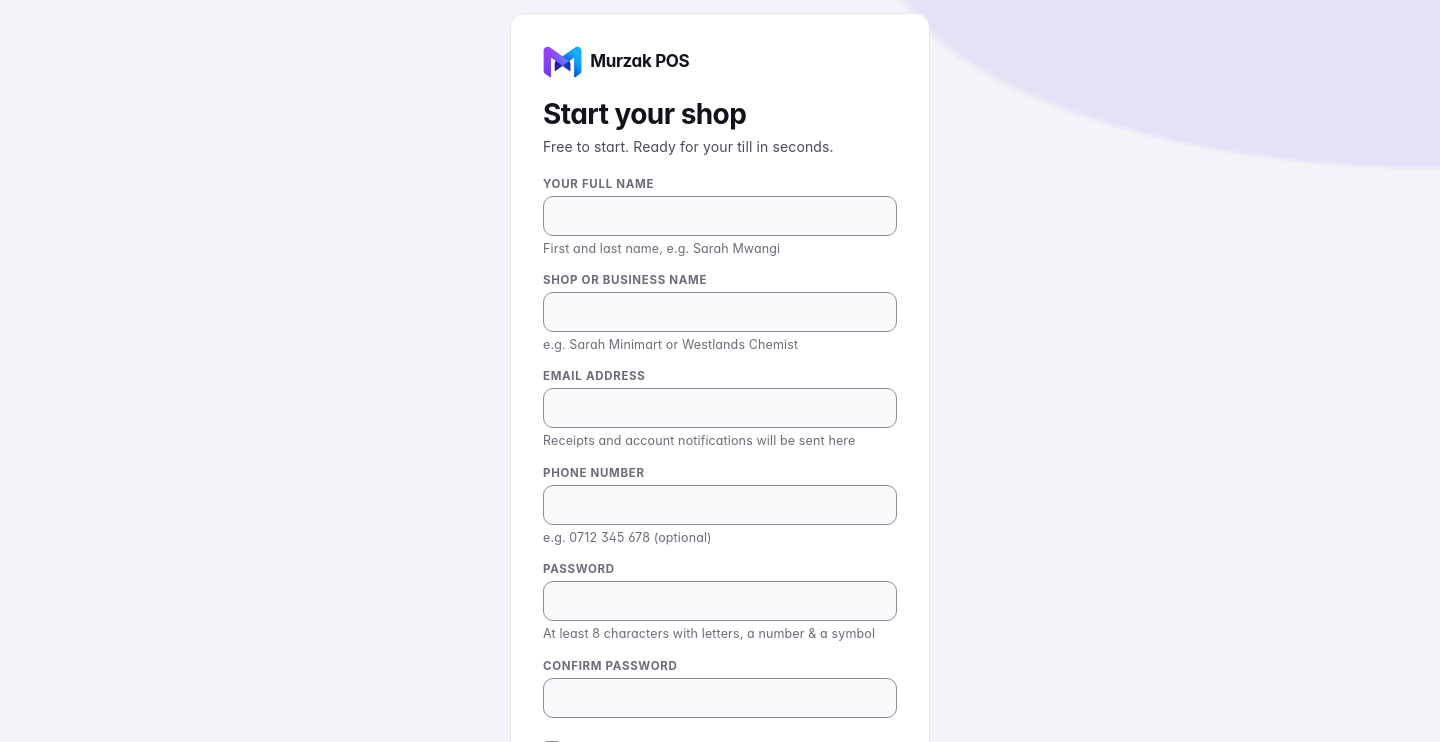
Scenario: SignUpPage › displays server error alert when registration is refused
Type "Grace Hopper" into the field labelled "Your full name" at (720, 216), box top-left (544, 196), bottom-right (896, 234)
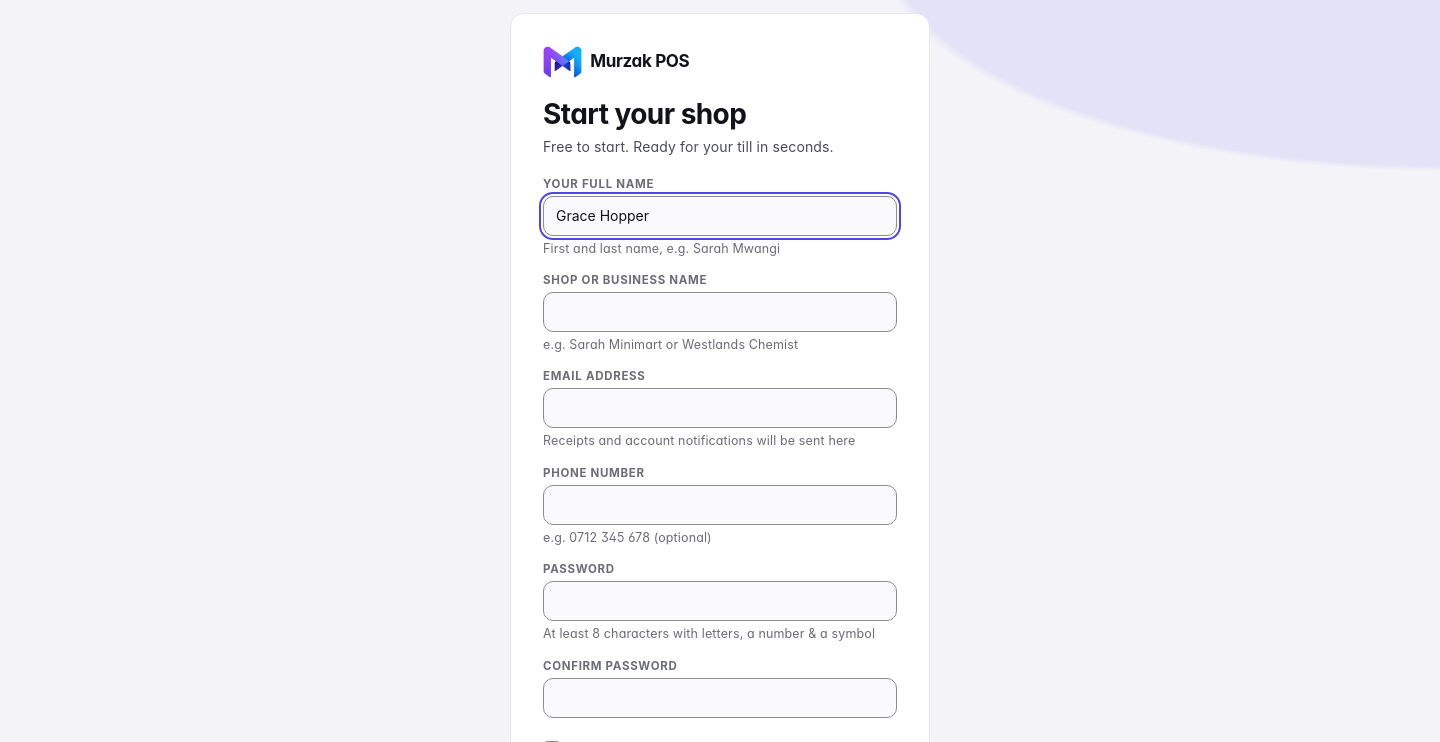
Type "Grace Tech" into the field labelled "Shop or business name" at (720, 312), box top-left (544, 293), bottom-right (896, 331)
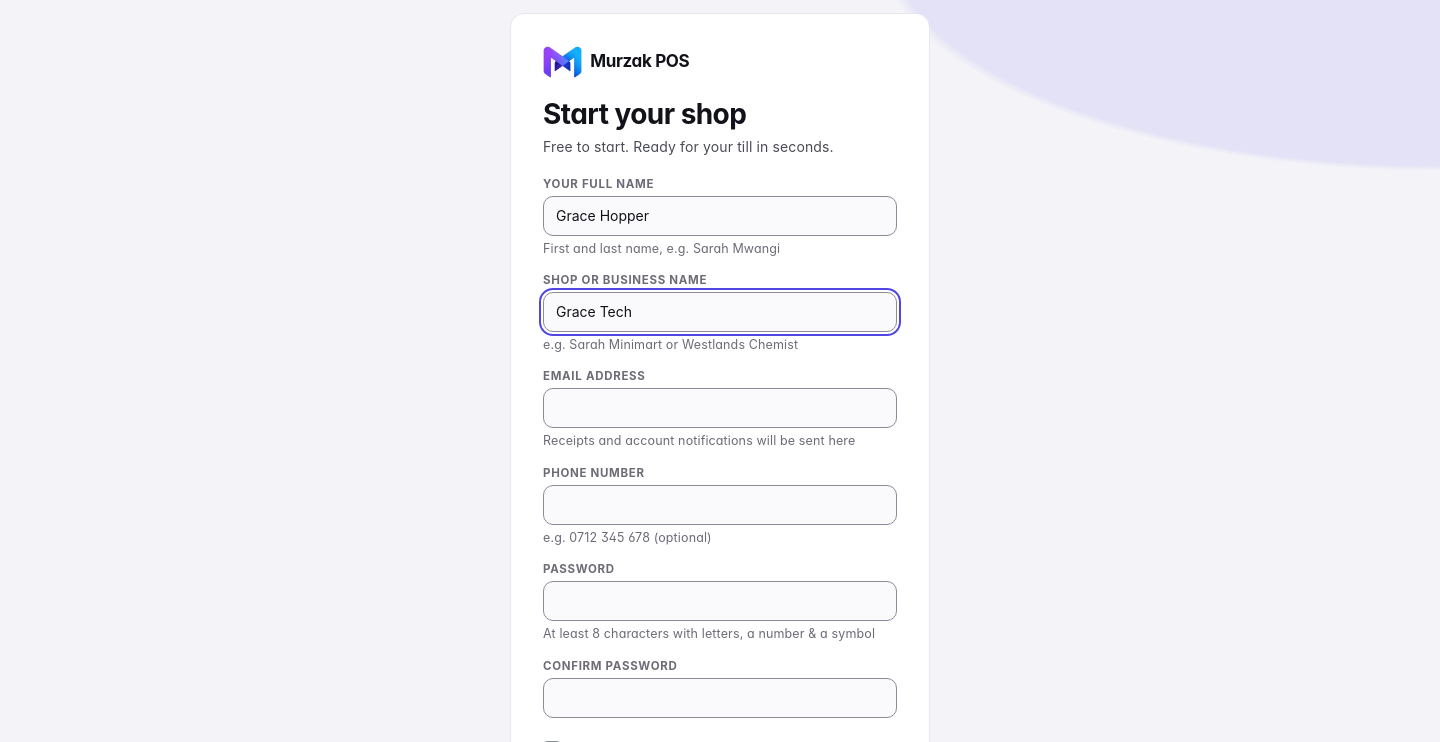
Type "grace@example.com" into the field labelled "Email address" at (720, 408), box top-left (544, 389), bottom-right (896, 427)
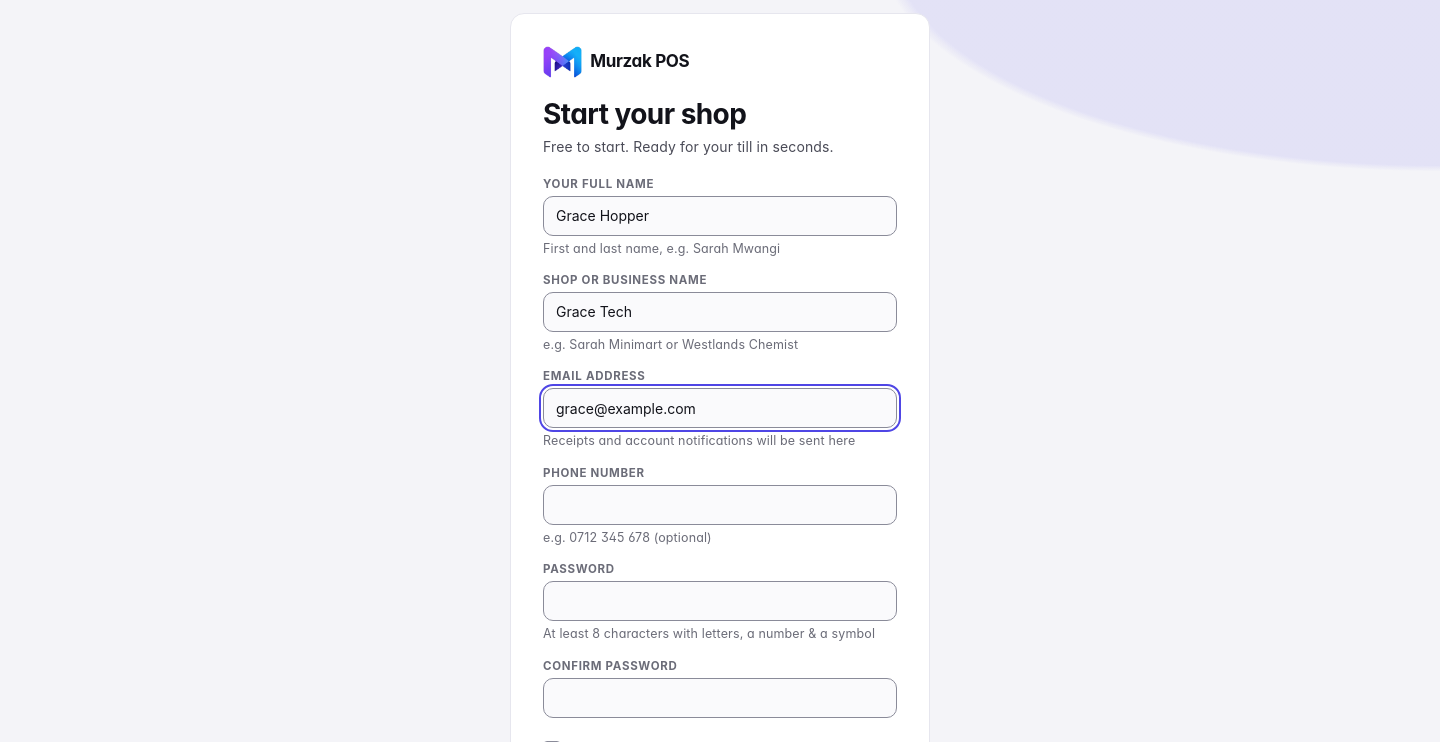
Type "Secret123!" into the password field labelled "Password" at (720, 601), box top-left (544, 582), bottom-right (896, 620)
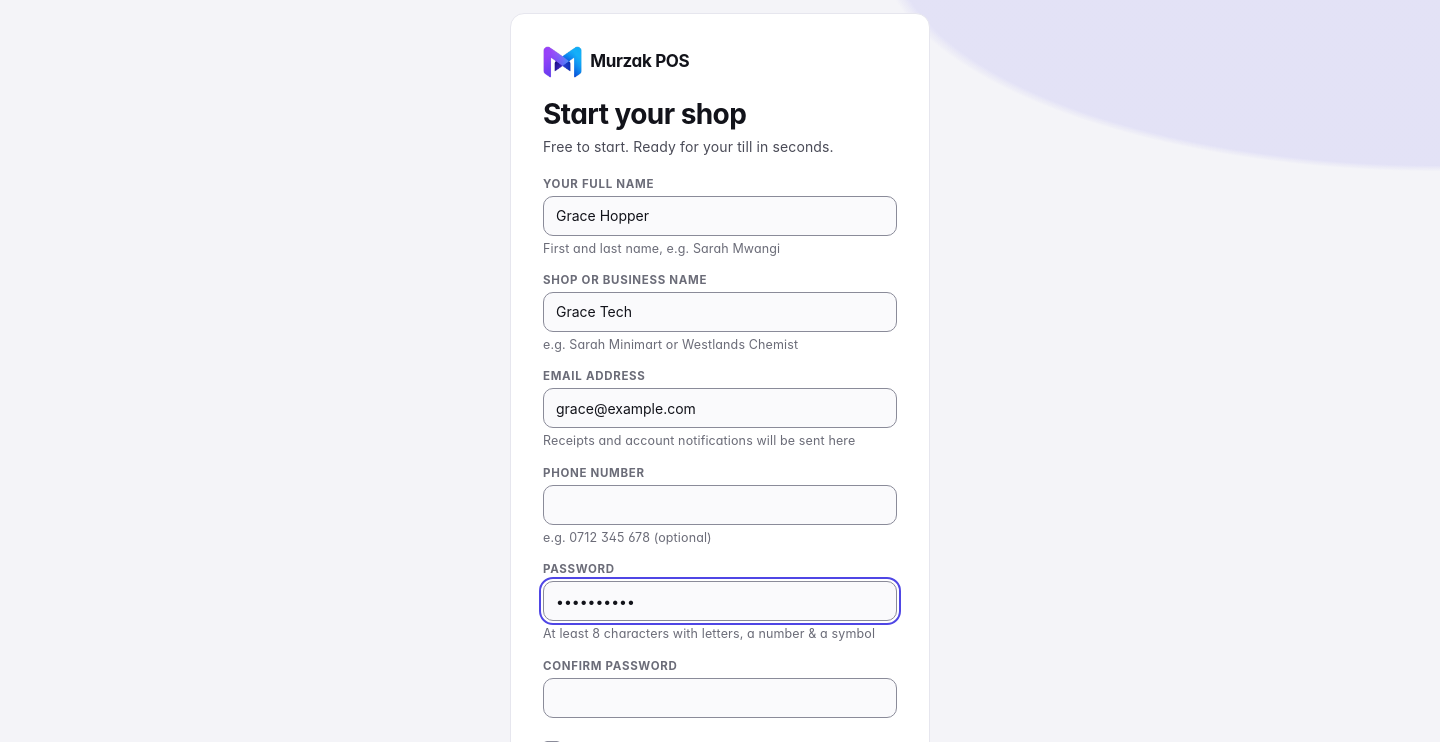
Type "Secret123!" into the password field labelled "Confirm password" at (720, 698), box top-left (544, 679), bottom-right (896, 717)
(page scrolled)
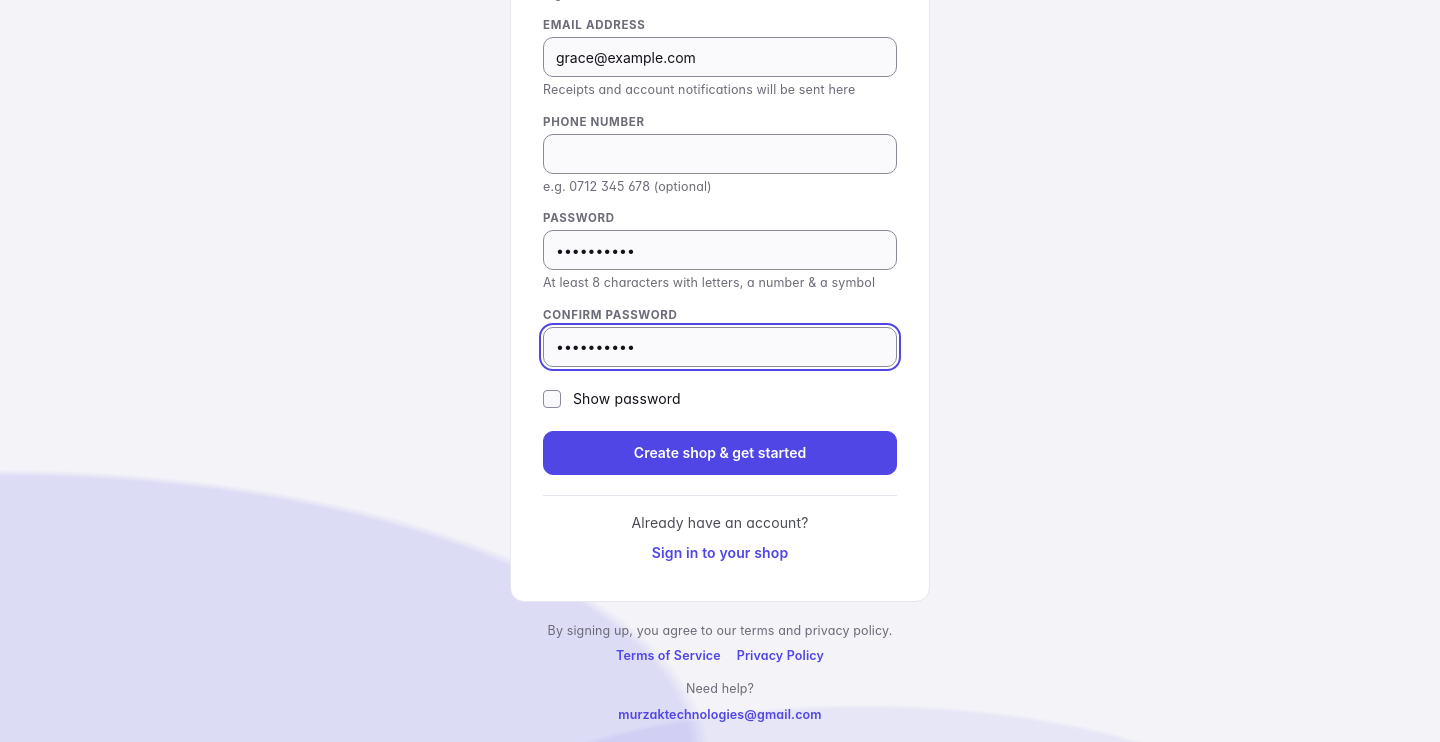
Click the button "Create shop & get started" at (720, 453), box top-left (543, 431), bottom-right (897, 475)
(page scrolled)
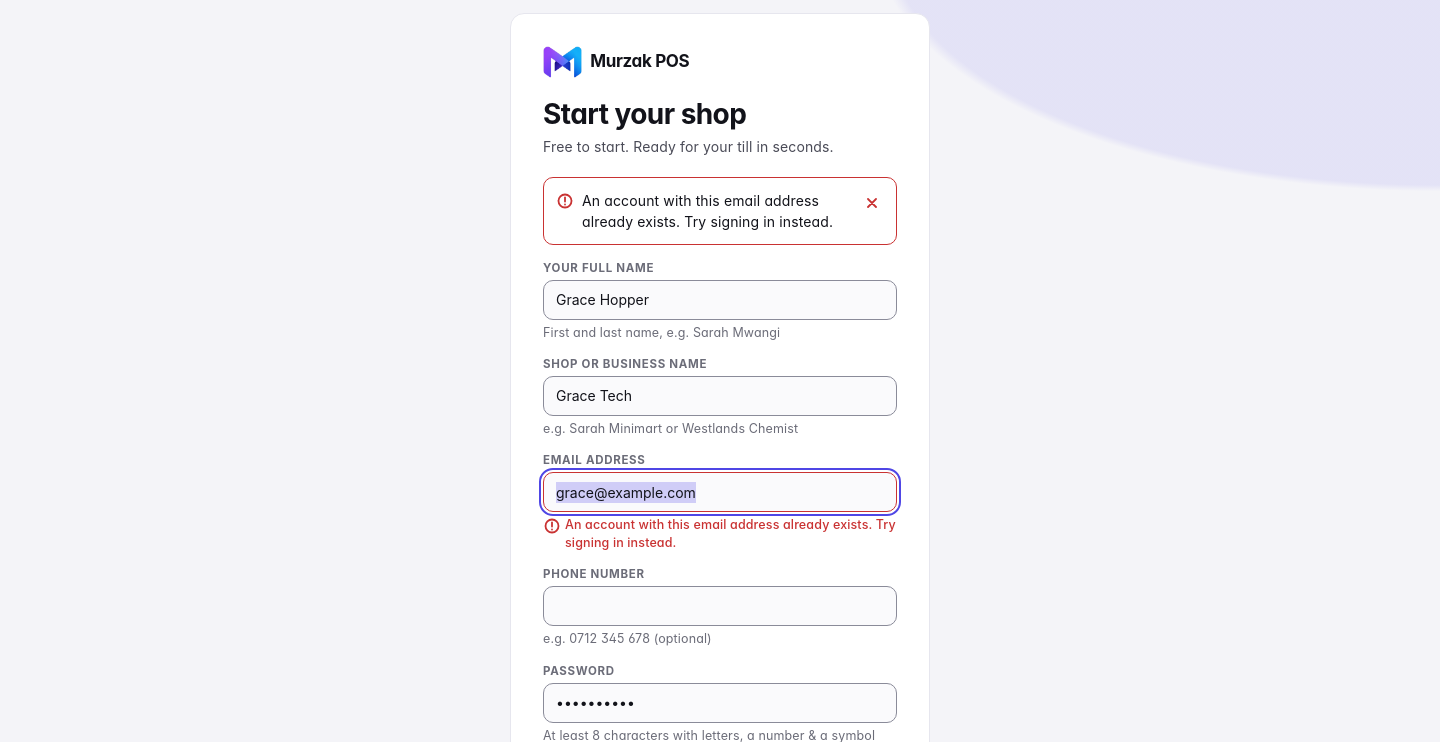
Expected: the message shows "already exists", top-left (582, 192), bottom-right (833, 230)
